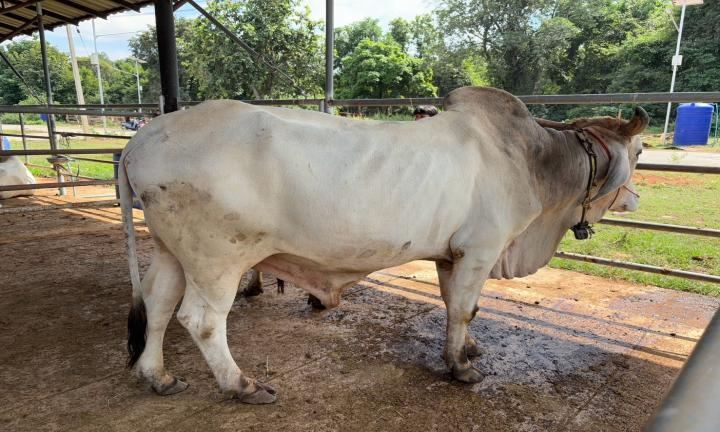Brahman: (119, 87, 648, 403)
